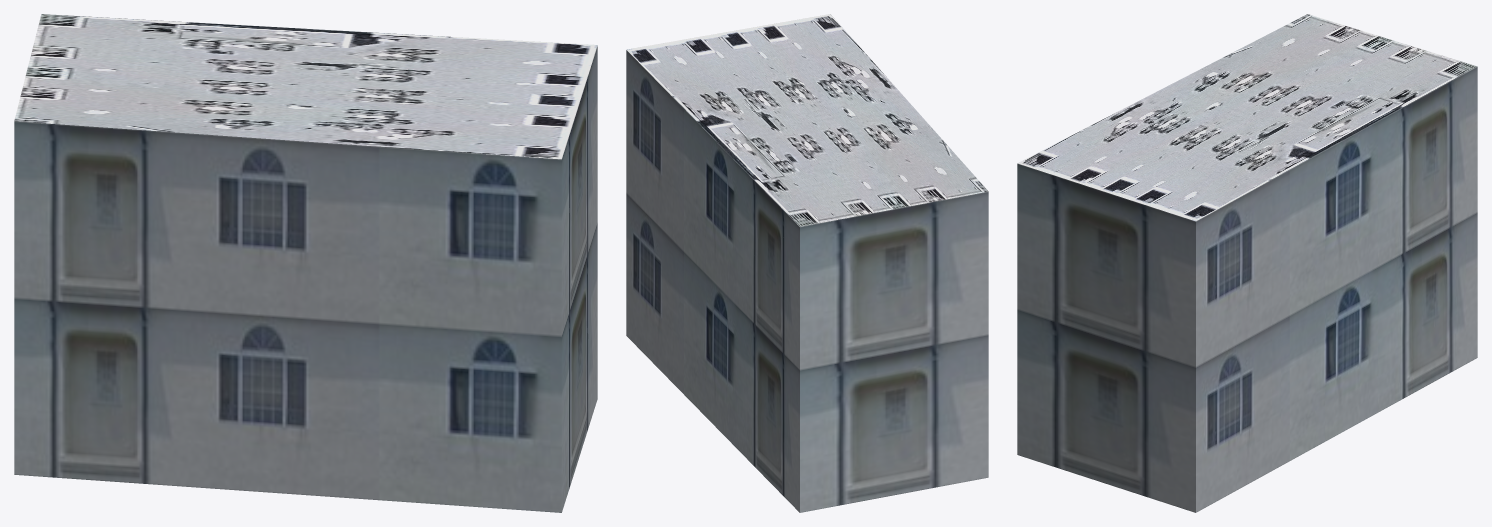
The model's file is ResTex__3576.fbx.
3 views of the same model, side by side, from view 1: azimuth 30°, elevation 25°; view 2: azimuth 150°, elevation 25°; view 3: azimuth 270°, elevation 25° (orthographic). The views are drawn at different scales.
Parts seen in each view (by area): view 1: CityEngineMaterial_17_m, CityEngineMaterial_4_m; view 2: CityEngineMaterial_17_m, CityEngineMaterial_4_m; view 3: CityEngineMaterial_17_m, CityEngineMaterial_4_m.
Boxes of the visible parts, x1=… form: CityEngineMaterial_17_m: x1=14, y1=46, x2=597, y2=512; CityEngineMaterial_4_m: x1=14, y1=14, x2=597, y2=159; CityEngineMaterial_17_m: x1=626, y1=50, x2=988, y2=512; CityEngineMaterial_4_m: x1=626, y1=14, x2=988, y2=226; CityEngineMaterial_17_m: x1=1017, y1=66, x2=1477, y2=512; CityEngineMaterial_4_m: x1=1017, y1=14, x2=1477, y2=221.
Bounding box in the file's own units: 9.16 × 6 × 8.59.
2 materials, 2 textured.
